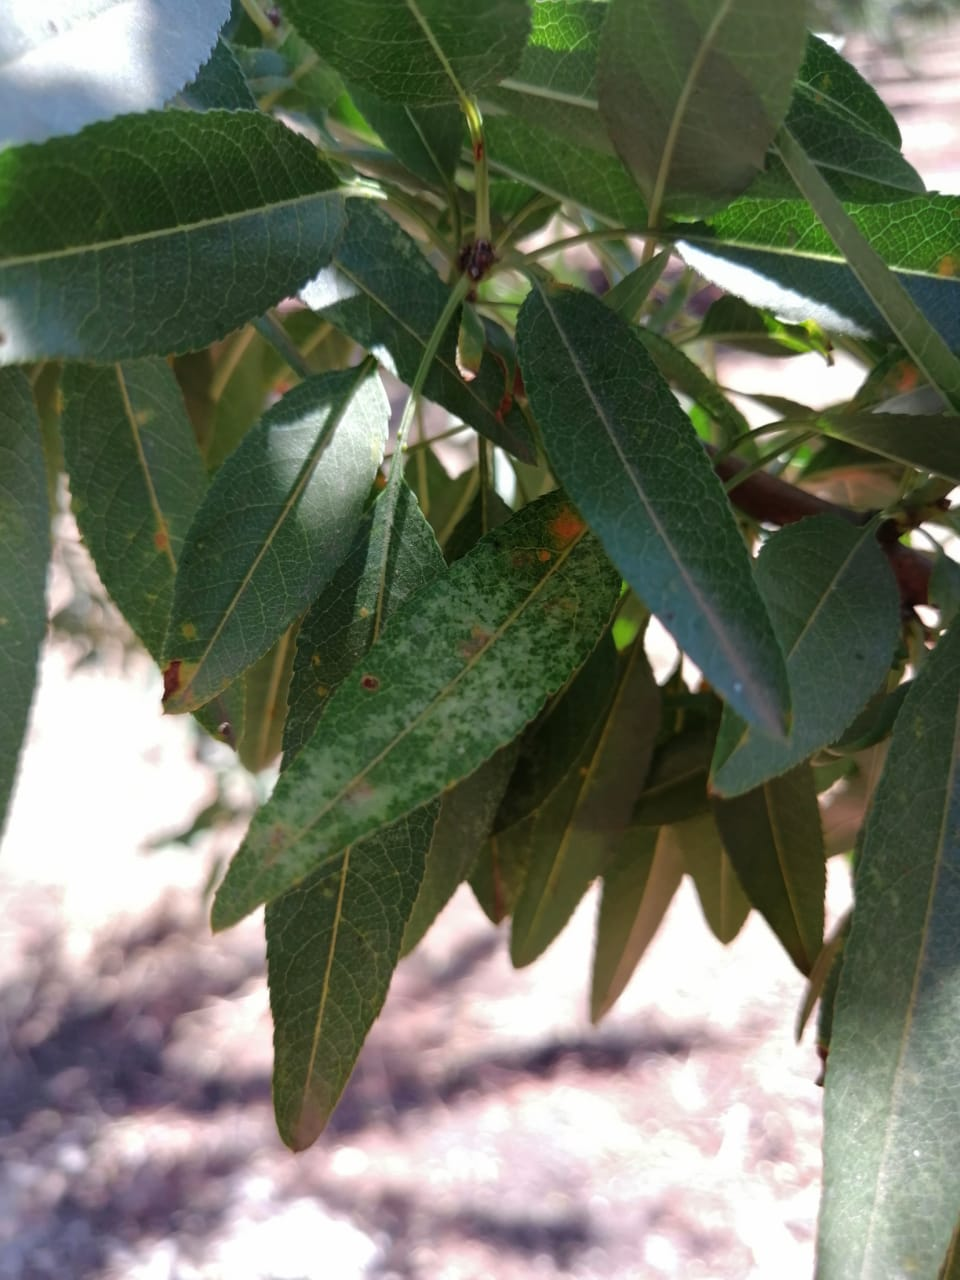faux tigre: (206, 485, 625, 934)
